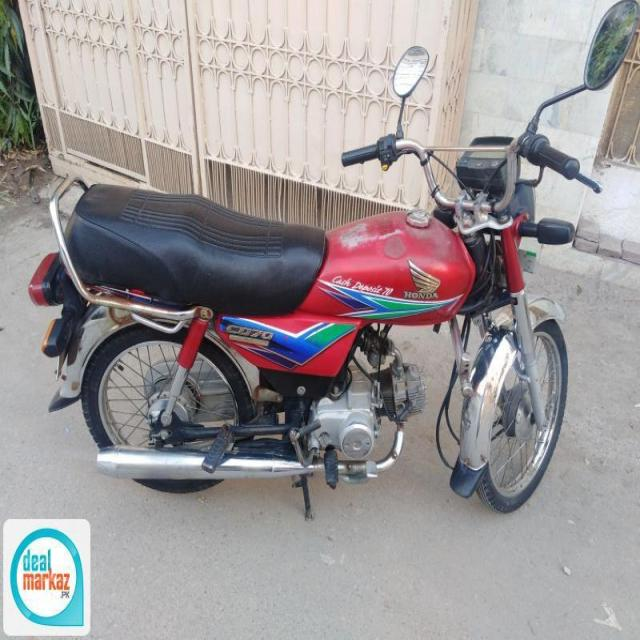motorcycle: (9, 11, 633, 538)
